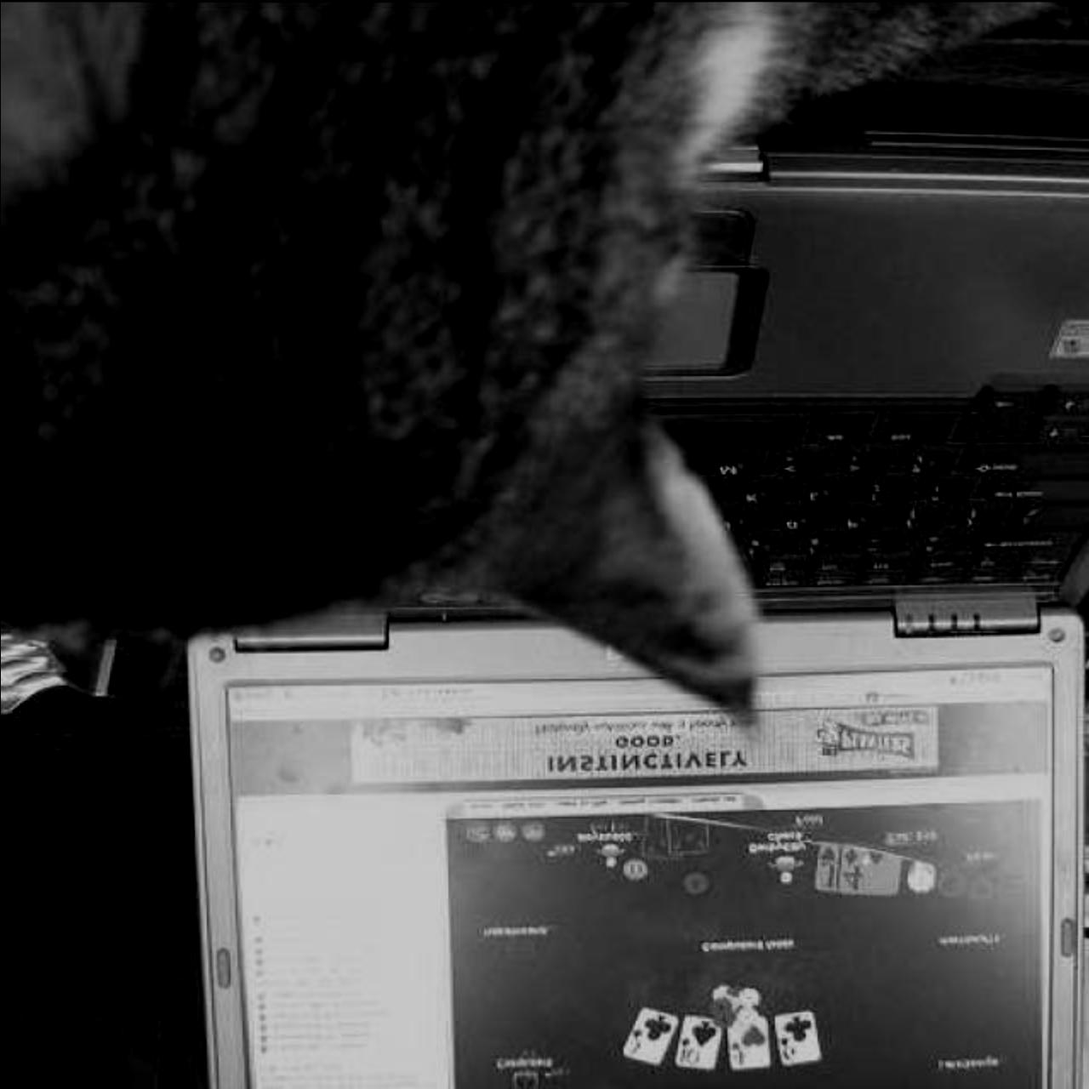laptop: (194, 150, 1089, 1089)
